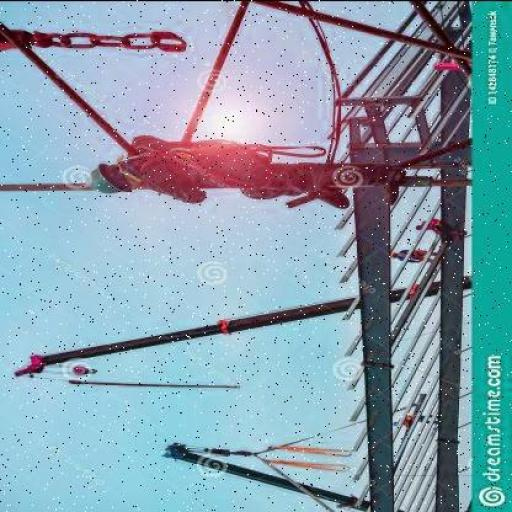person: (90, 126, 397, 216), (386, 246, 442, 266)
safety_shoe: (376, 164, 404, 202), (304, 188, 352, 206)
